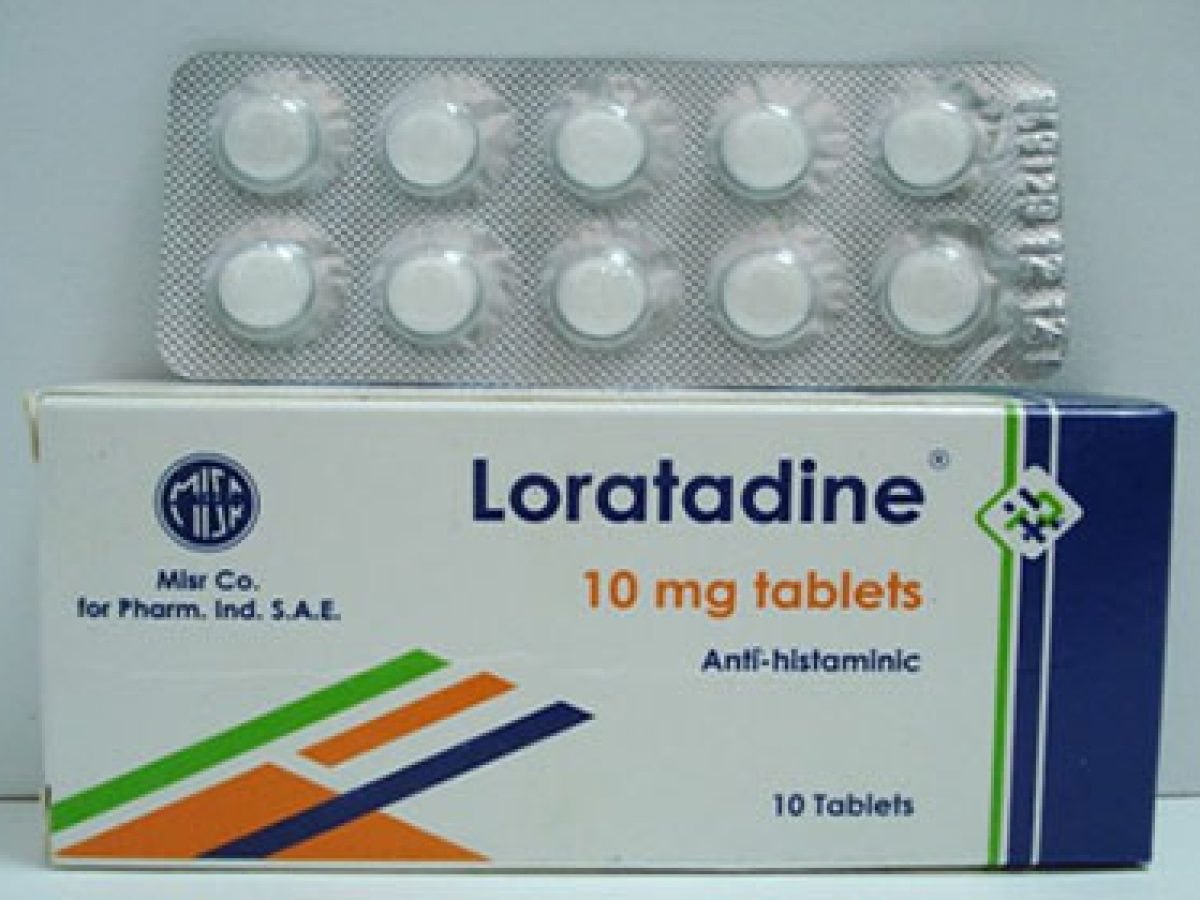Medicine: (18, 370, 1180, 888)
